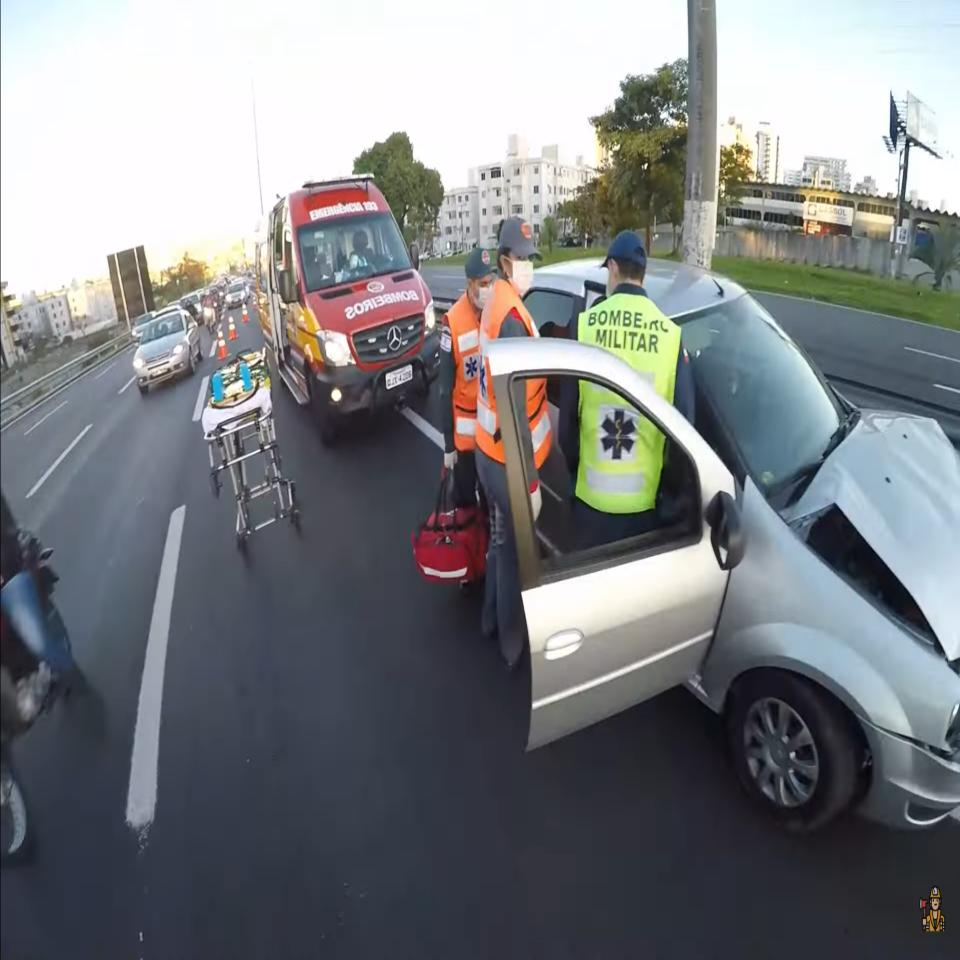viatura: (255, 173, 441, 437)
